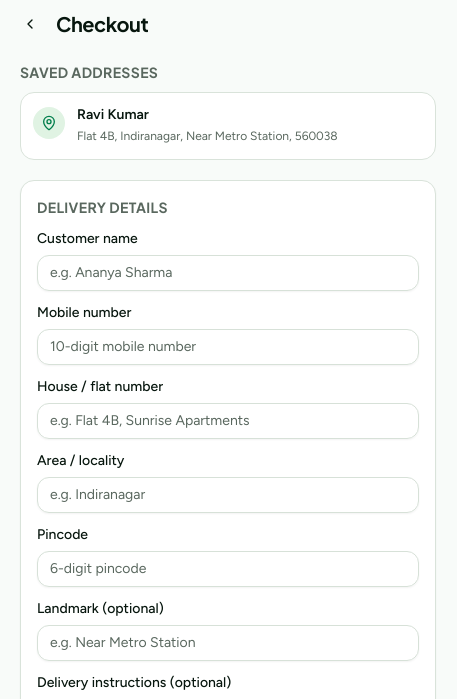
Test case: CheckoutPage › prefills the form from a saved address
Click the button with test id "checkout_saved_address_item" at (49, 123), box [20,92,436,160]
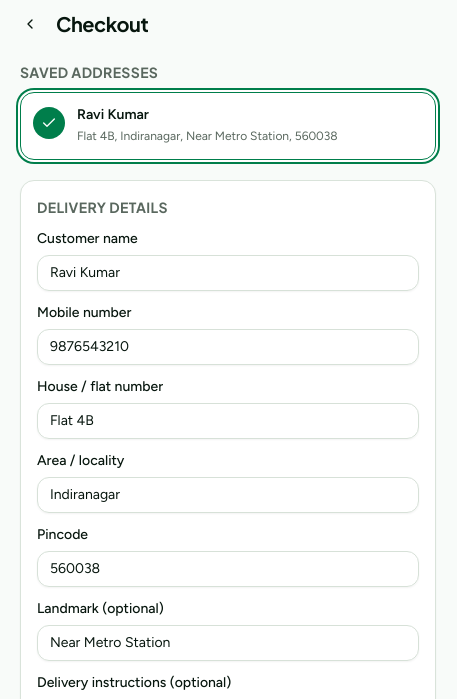
Check: the field with test id "checkout_name_input" holds "Ravi Kumar", box [37,254,419,290]
Check: the field with test id "checkout_pincode_input" holds "560038", box [37,550,419,586]
